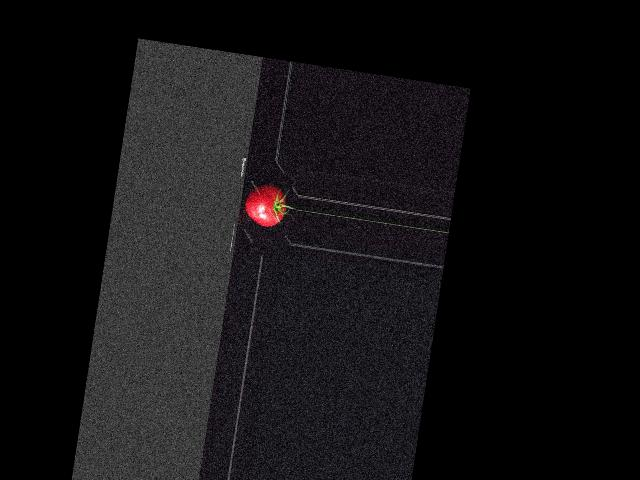tomato: (242, 181, 288, 229)
